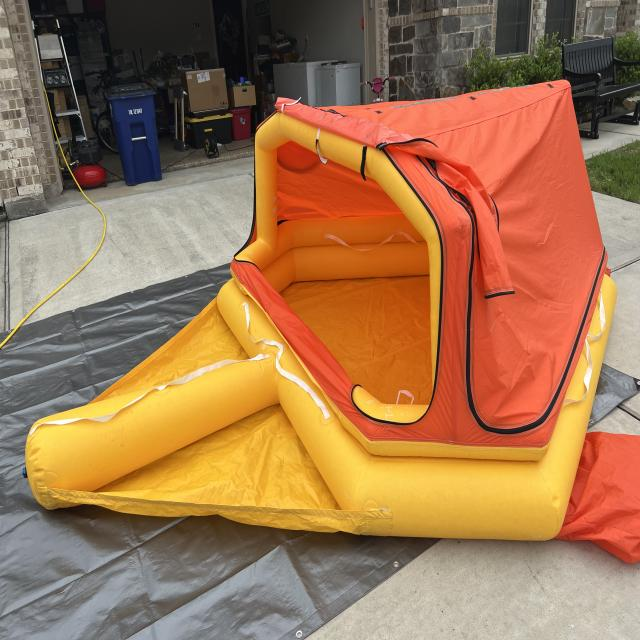Multi-person_life_raft: (25, 79, 640, 565)
